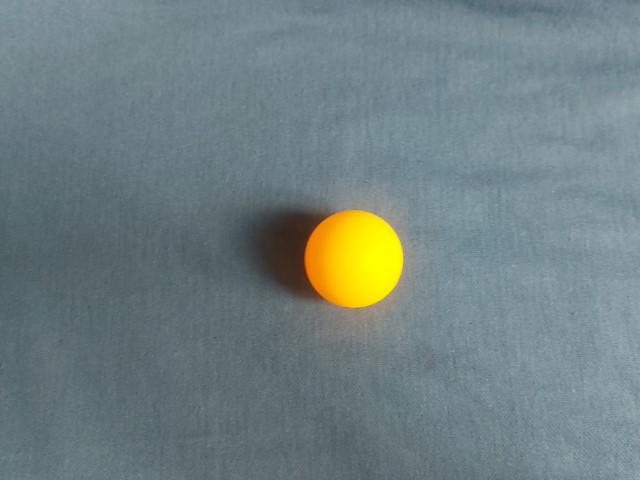oball: (227, 164, 343, 279)
